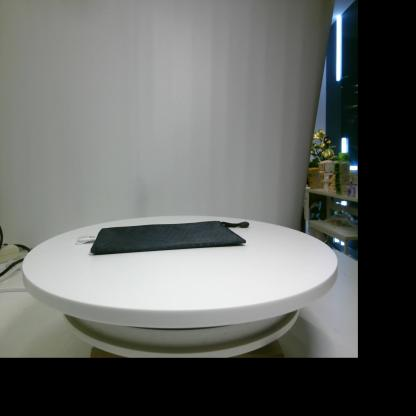Stationery: (76, 221, 249, 253)
